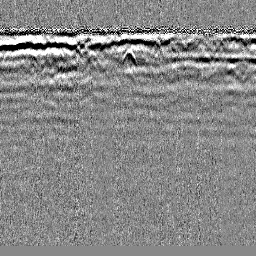cavity: (120, 48, 137, 67)
